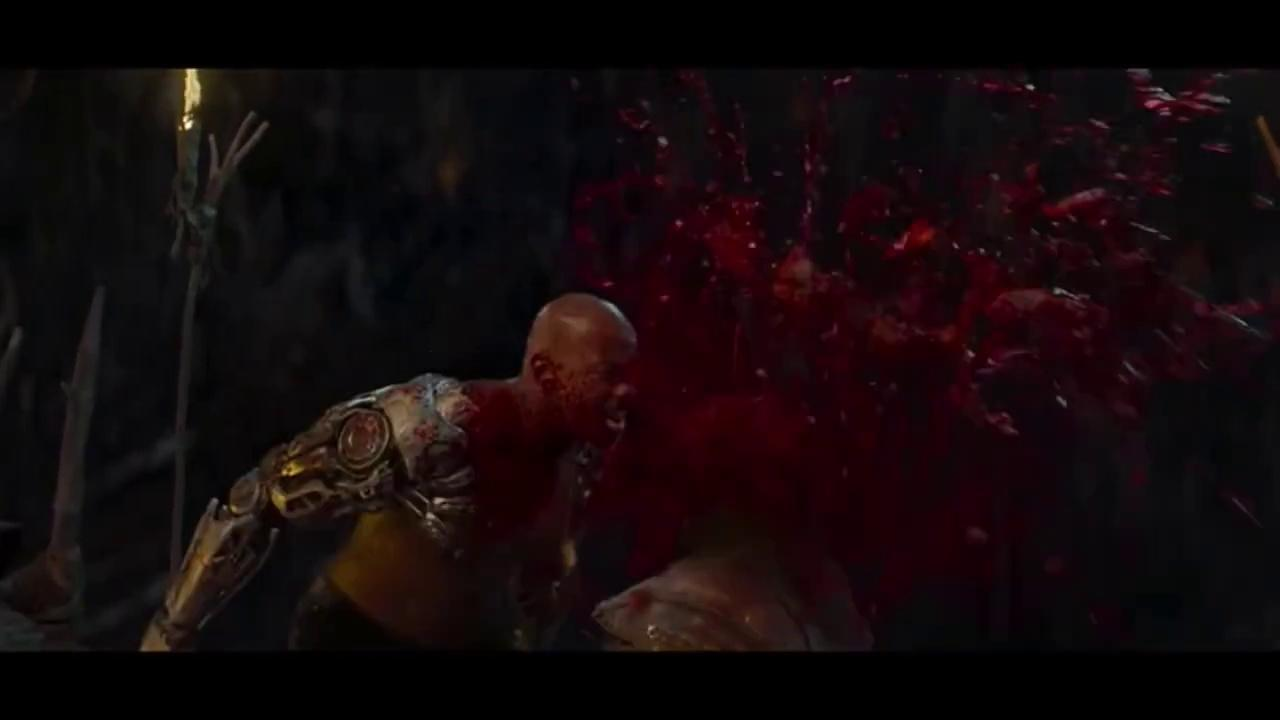Fire: (449, 69, 1280, 650), (338, 411, 396, 471), (387, 384, 426, 415), (415, 419, 436, 447)
